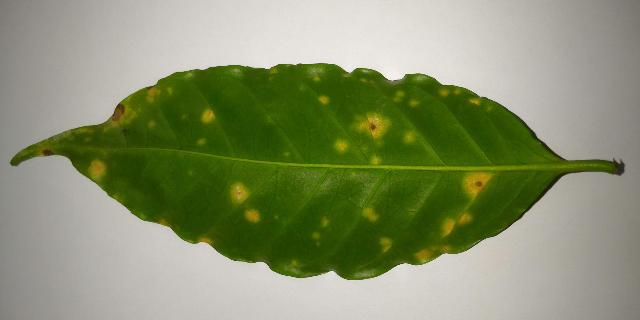miner: (349, 110, 392, 147), (462, 172, 496, 204), (109, 94, 141, 126), (442, 207, 471, 237), (415, 246, 451, 264), (230, 182, 251, 204), (88, 160, 106, 180), (362, 207, 378, 221), (334, 139, 350, 153), (147, 86, 161, 102), (244, 209, 260, 222), (202, 108, 215, 123), (404, 131, 416, 142), (381, 238, 391, 251), (38, 148, 54, 156), (370, 155, 382, 165), (318, 95, 329, 105), (198, 238, 211, 245), (321, 217, 330, 227), (394, 91, 403, 101), (470, 98, 481, 105), (197, 138, 206, 146), (283, 151, 290, 160), (440, 89, 449, 96), (312, 232, 320, 239), (158, 220, 166, 226), (410, 100, 418, 106), (313, 75, 319, 81), (455, 88, 460, 94), (167, 88, 172, 94), (292, 261, 296, 268), (351, 172, 356, 177), (186, 72, 191, 77), (271, 68, 276, 73), (315, 64, 323, 67), (81, 128, 87, 131), (150, 122, 153, 126), (233, 68, 236, 71), (362, 79, 366, 81), (105, 128, 107, 130), (345, 75, 349, 76), (364, 148, 366, 149), (192, 242, 192, 243)
